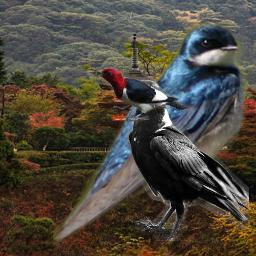Crow: (121, 77, 249, 241)
Swallow: (53, 18, 249, 248)
Woodpecker: (85, 65, 191, 124)
